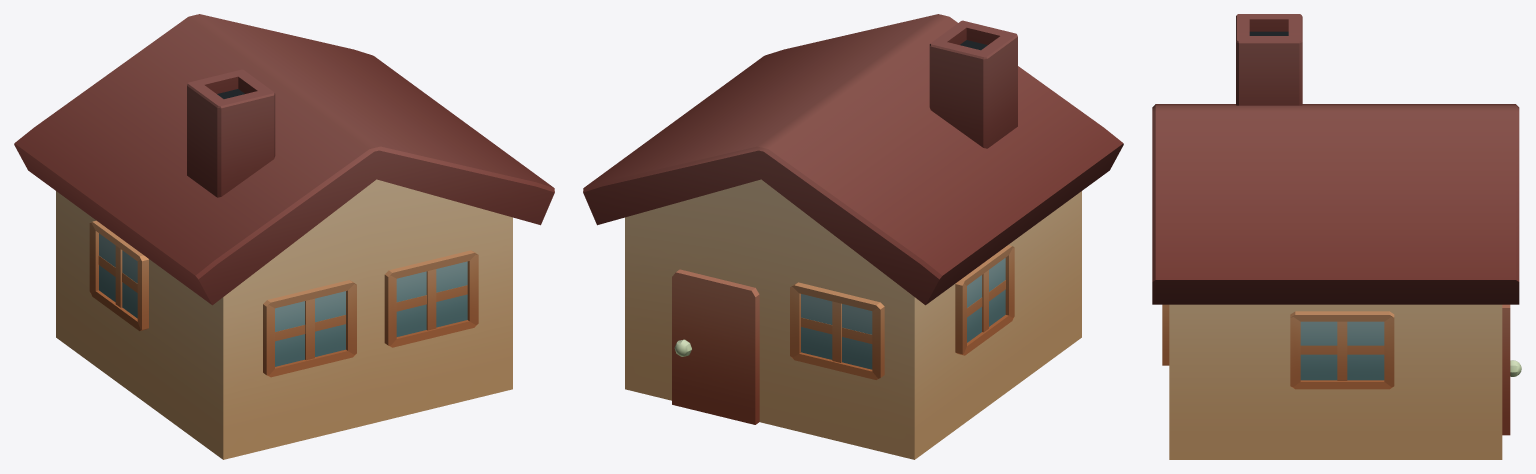
File: houseRed.fbx
3 views of the same model, side by side, from view 1: azimuth 30°, elevation 25°; view 2: azimuth 150°, elevation 25°; view 3: azimuth 270°, elevation 25° (orthographic).
Visible parts, largest first — view 1: HouseRed; view 2: HouseRed; view 3: HouseRed.
Part boxes in pixels (<box>): HouseRed: <box>14,14,554,459</box>; HouseRed: <box>583,14,1123,459</box>; HouseRed: <box>1152,14,1521,459</box>.
Bounding box in the file's own units: 6.2 × 5.3 × 5.55.
